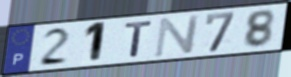1: (82, 20, 107, 64)
2: (34, 27, 74, 68)
7: (203, 10, 238, 54)
8: (243, 8, 277, 49)
N: (152, 13, 202, 58)
T: (123, 19, 156, 58)
